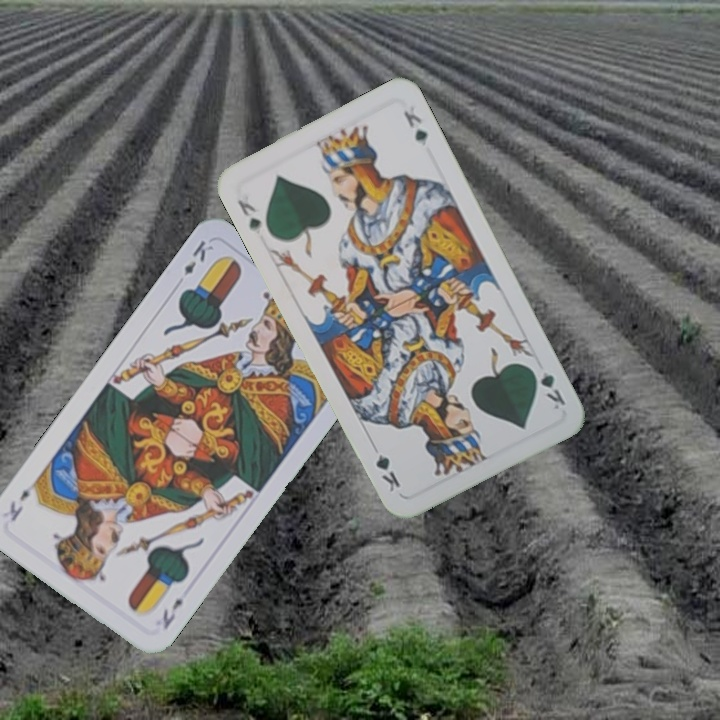EK: (180, 236, 216, 278), (158, 594, 186, 632)
GK: (526, 362, 568, 413), (233, 195, 264, 235)
